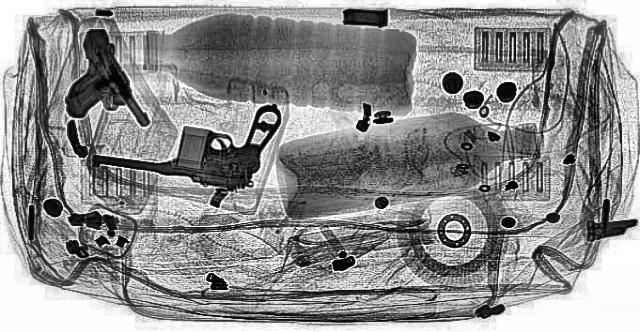Gun: (82, 84, 300, 192), (26, 28, 156, 134)
